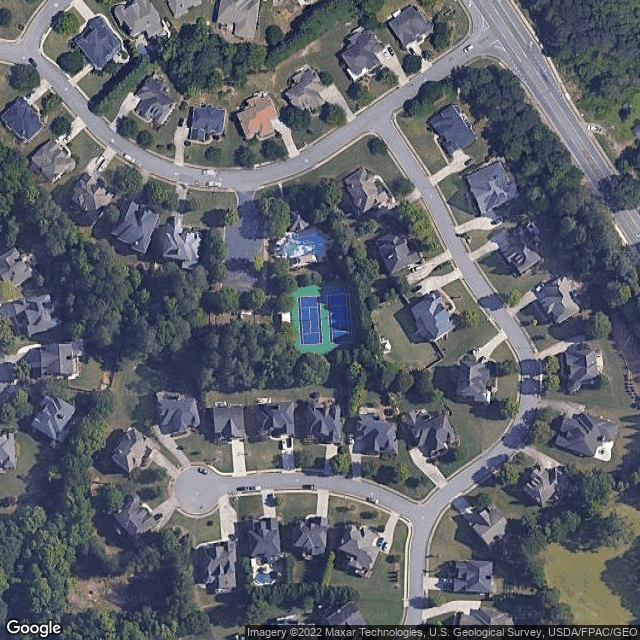Court: (327, 292, 354, 346), (297, 294, 323, 346)
